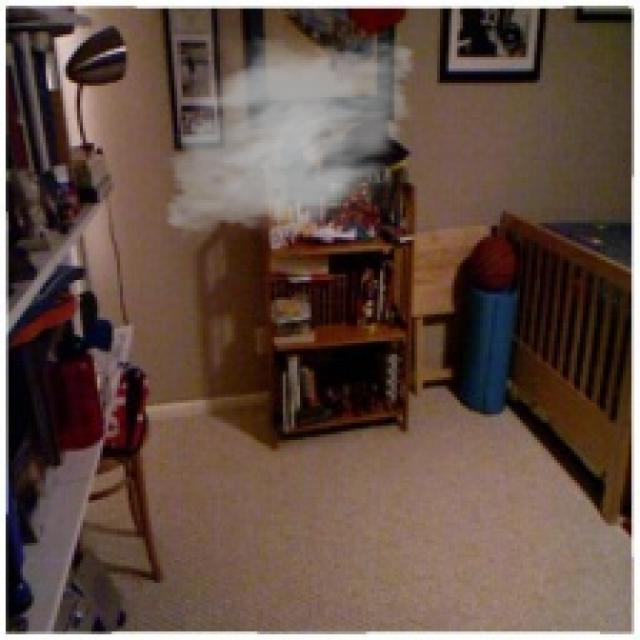Smoke: (154, 20, 426, 249)
